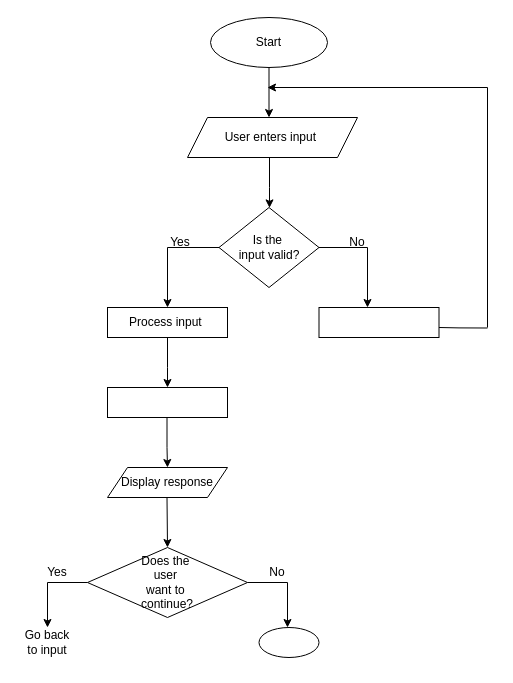
This 513x683 diagram has some shape labels left out. Here are the shapes that lost their labels. From the top down, the centre of each, then its label:
(378,322): Ask user to re-enter
(167,402): Generate response
(288,642): End
